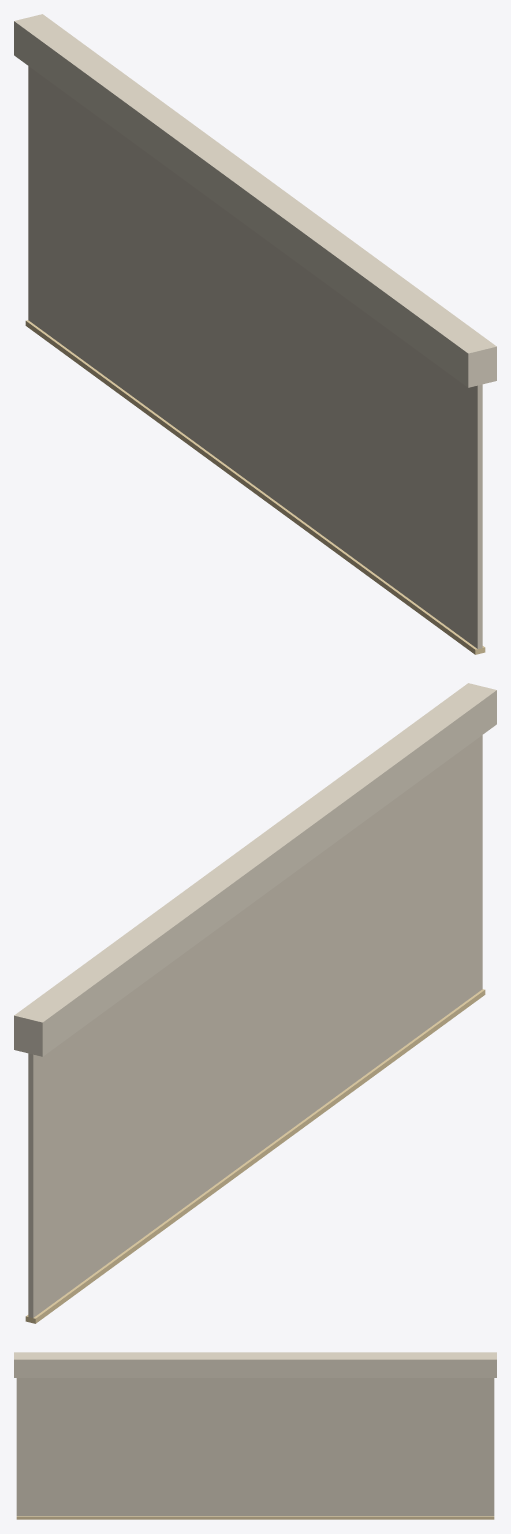
Rendered from SM_Blind_Study.fbx.
The picture shows the model from 3 angles, top to bottom: view 1: azimuth 30°, elevation 25°; view 2: azimuth 150°, elevation 25°; view 3: azimuth 270°, elevation 25°; orthographic projection. The views are drawn at different scales.
Visible parts, largest first — view 1: SM_Blind_Study; view 2: SM_Blind_Study; view 3: SM_Blind_Study.
Part boxes in pixels (bbox=[...]): SM_Blind_Study: bbox=[14, 14, 496, 654]; SM_Blind_Study: bbox=[14, 683, 496, 1323]; SM_Blind_Study: bbox=[14, 1352, 496, 1519].
Bounding box in the file's own units: 7 × 71.2 × 192.
